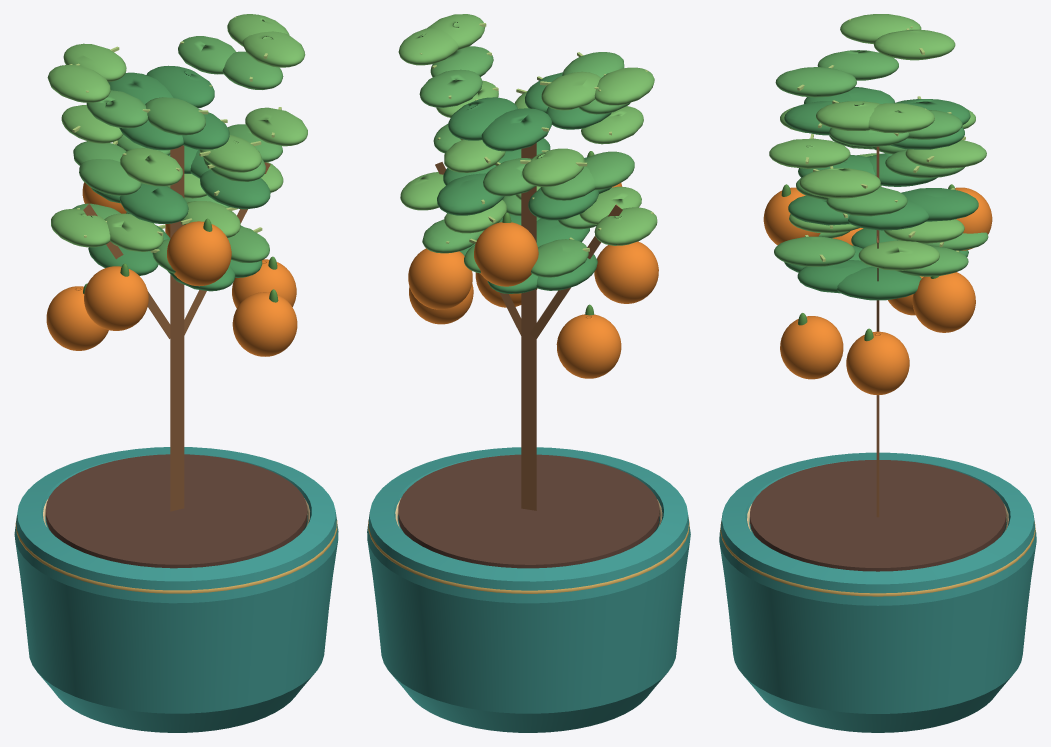
The model's file is gblb_citrus_topiary.glb.
The picture shows the model from 3 angles, left to right: view 1: azimuth 30°, elevation 25°; view 2: azimuth 150°, elevation 25°; view 3: azimuth 270°, elevation 25°; orthographic projection. The views are drawn at different scales.
Bounding box in the file's own units: 0.5695 × 1.24 × 0.5697.
